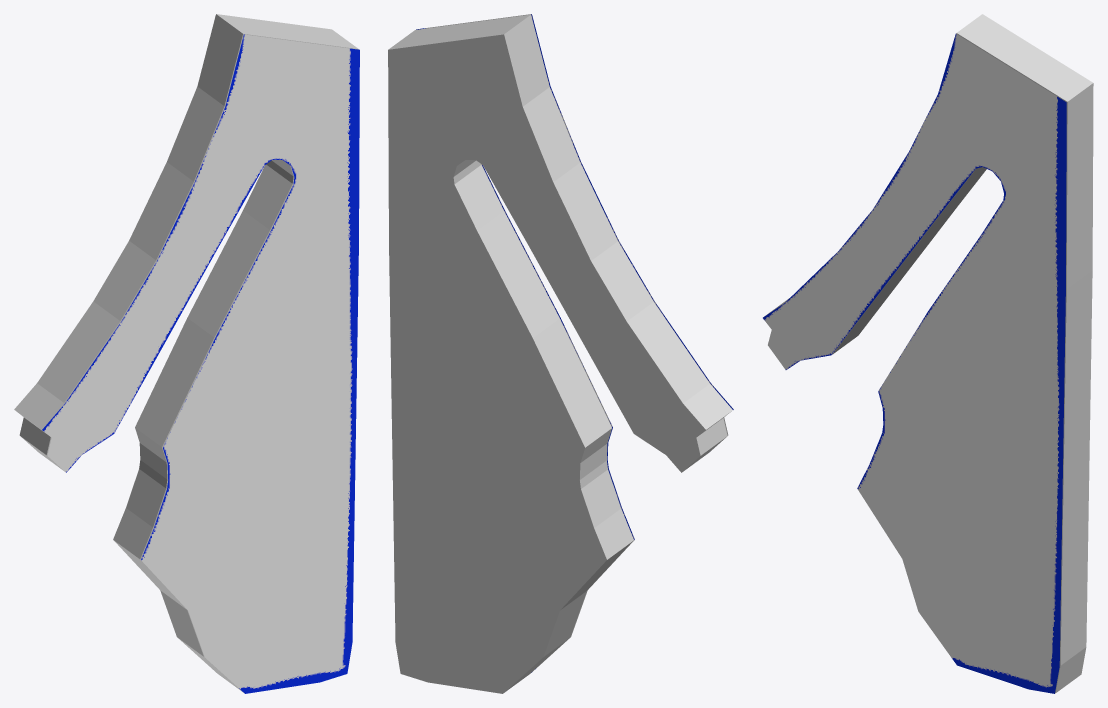
The picture shows the model from 3 angles, left to right: view 1: azimuth 30°, elevation 25°; view 2: azimuth 150°, elevation 25°; view 3: azimuth 330°, elevation 25°; orthographic projection. The views are drawn at different scales.
Visible parts, largest first — view 1: Out_3_1, Out_3_0; view 2: Out_3_0, Out_3_1; view 3: Out_3_1, Out_3_0.
Boxes of the visible parts, x1,y1,x2,y2 form: Out_3_1: (42, 34, 359, 693); Out_3_0: (14, 14, 358, 692); Out_3_0: (388, 14, 732, 693); Out_3_1: (416, 14, 733, 672); Out_3_1: (763, 34, 1066, 693); Out_3_0: (764, 14, 1093, 693).
Size of the model in its own units: 3.39 by 6.79 by 0.515.
2 materials, 1 textured.
